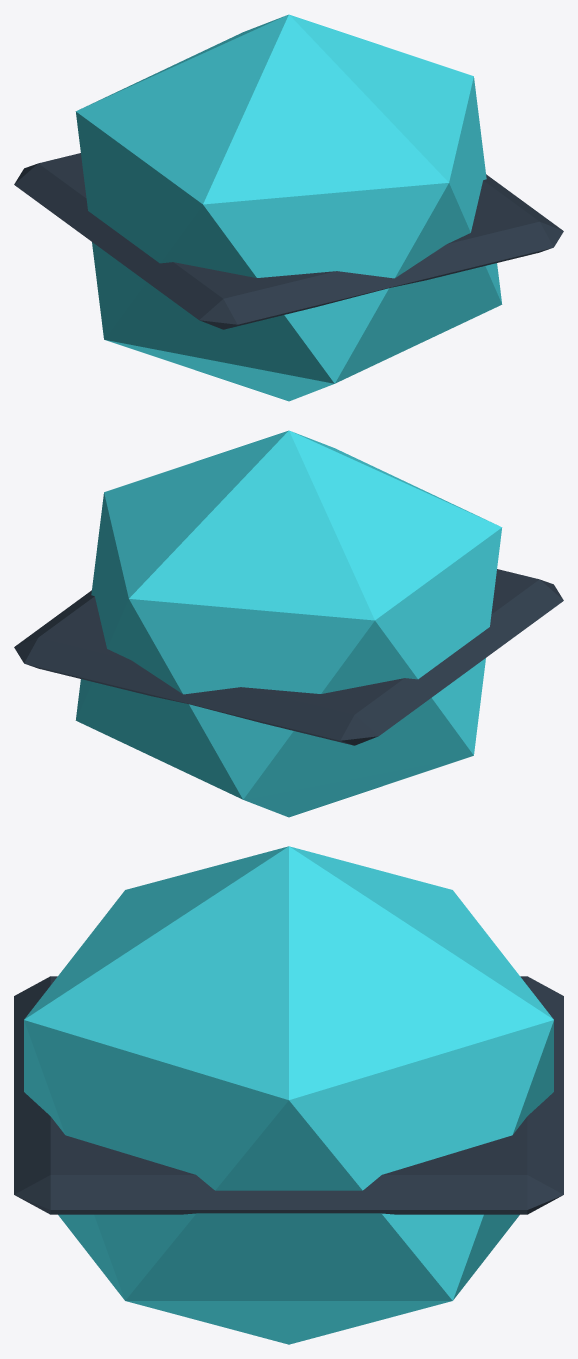
The model's file is BonusCrystal.fbx.
The picture shows the model from 3 angles, top to bottom: view 1: azimuth 30°, elevation 25°; view 2: azimuth 150°, elevation 25°; view 3: azimuth 270°, elevation 25°; orthographic projection. The views are drawn at different scales.
Parts seen in each view (by area): view 1: FacetedCrystal, CrystalCollar; view 2: FacetedCrystal, CrystalCollar; view 3: FacetedCrystal, CrystalCollar.
Part boxes in pixels (left/top/right/bottom): FacetedCrystal: left=75, top=14, right=502, bottom=401; CrystalCollar: left=14, top=153, right=563, bottom=329; FacetedCrystal: left=75, top=430, right=502, bottom=817; CrystalCollar: left=14, top=569, right=563, bottom=745; FacetedCrystal: left=24, top=846, right=553, bottom=1344; CrystalCollar: left=14, top=976, right=563, bottom=1214.
Bounding box in the file's own units: 1 × 1 × 1.
